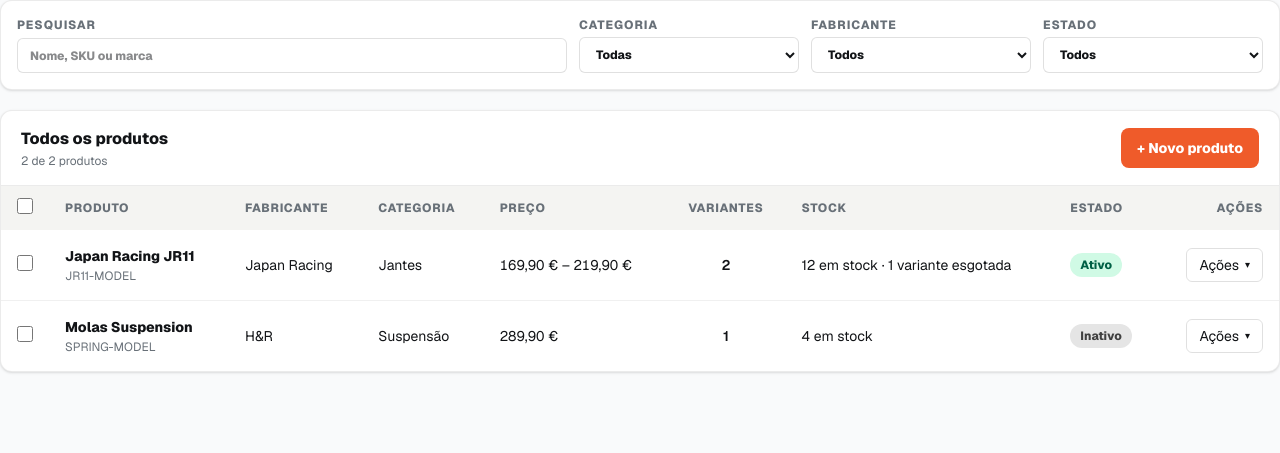
Test case: ProductsClient › mostra sucesso parcial e erros úteis na eliminação em massa
Expected: the heading "Todos os produtos" is shown, left=21, top=127, right=168, bottom=151
Click the checkbox named "Selecionar todos os produtos visíveis" at [25, 206], box left=17, top=198, right=33, bottom=214
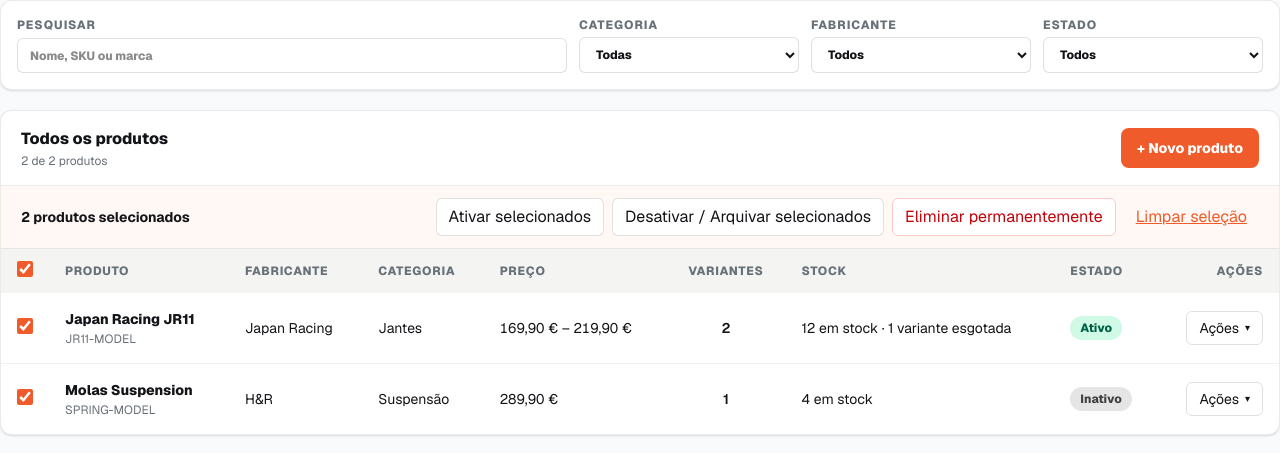
Click the button "Eliminar permanentemente" at [1004, 217], box left=892, top=198, right=1116, bottom=236
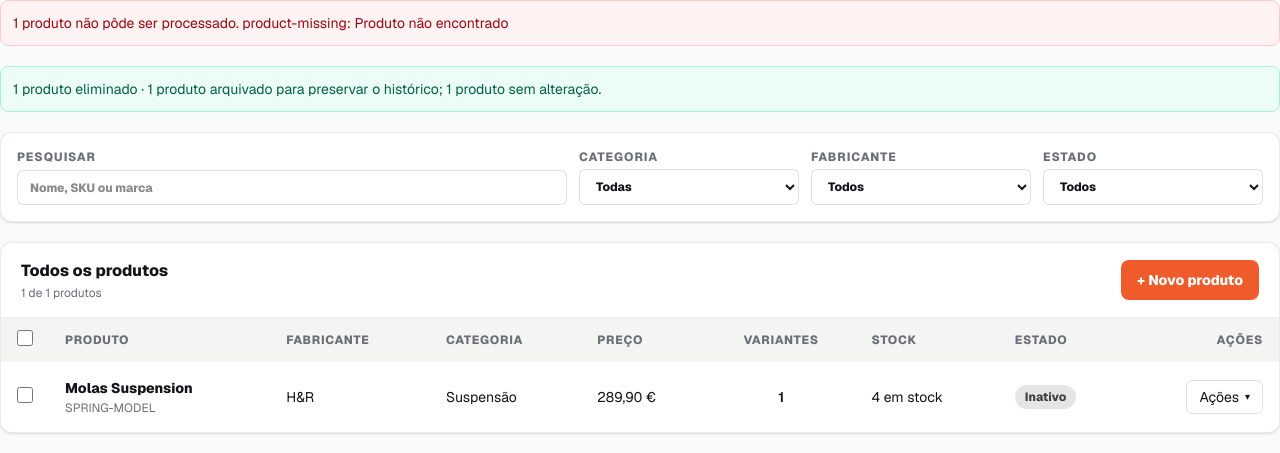
Now the text "1 produto eliminado · 1 produto arquivado para preservar o histórico; 1 produto sem alteração." is shown, box left=13, top=80, right=601, bottom=98
Now the message "1 produto não pôde ser processado. product-missing: Produto não encontrado" is shown, box left=0, top=0, right=1279, bottom=46
Now the link "Japan Racing JR11" is gone
